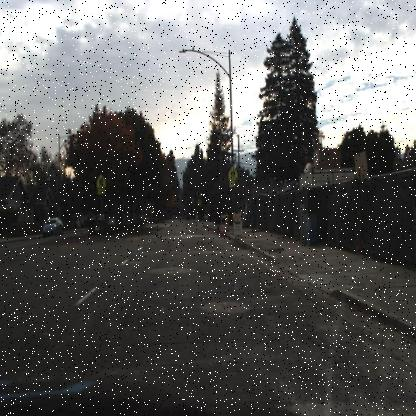car: (42, 216, 62, 238), (40, 216, 62, 235)
